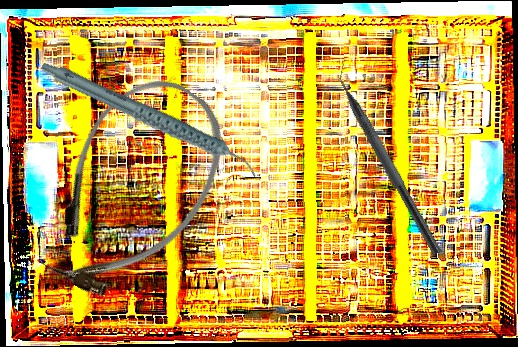Cannula: (13, 56, 252, 321)
Chopper: (324, 55, 456, 257)
Handpiece: (38, 21, 261, 219)
